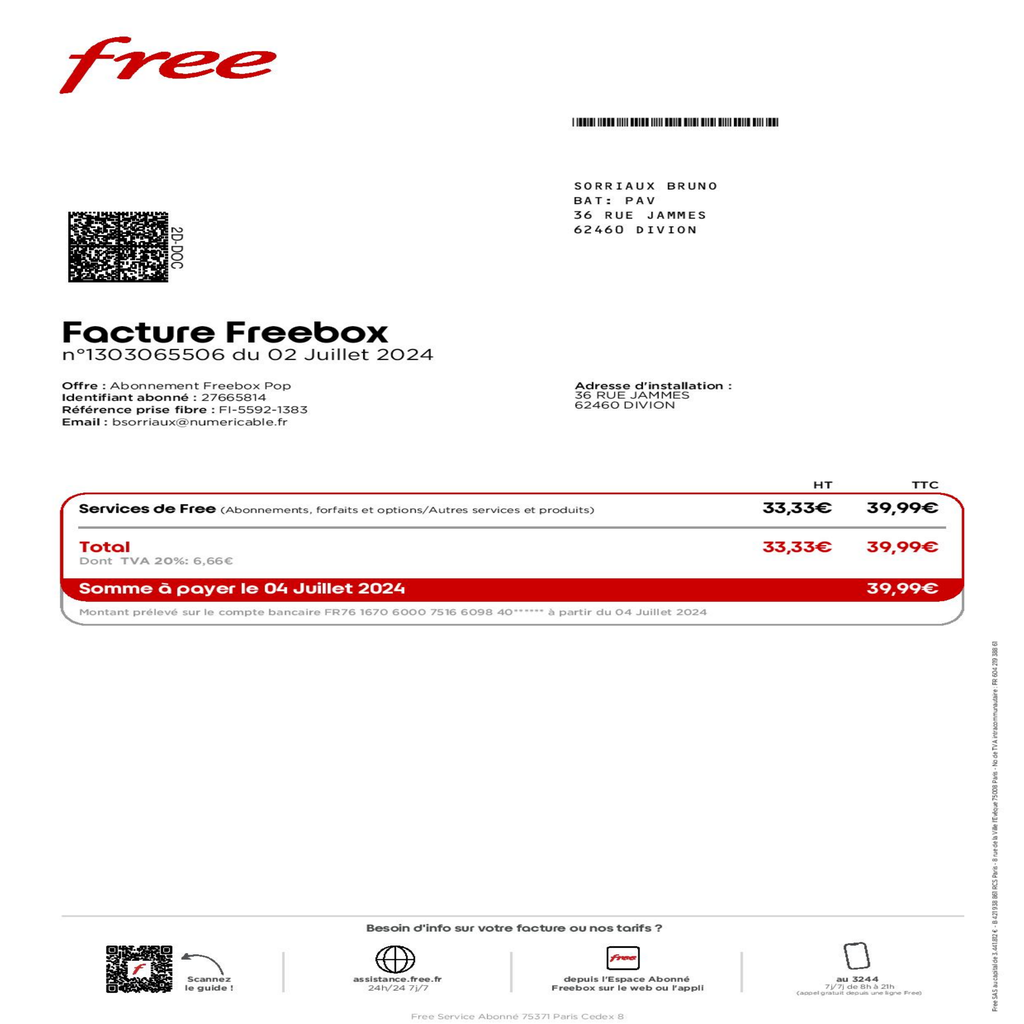recipt: (6, 6, 1020, 1009)
